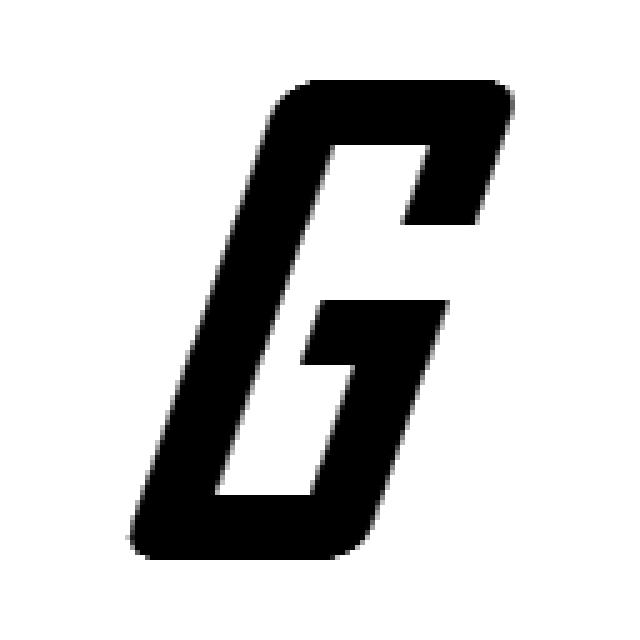G: (120, 70, 520, 560)
